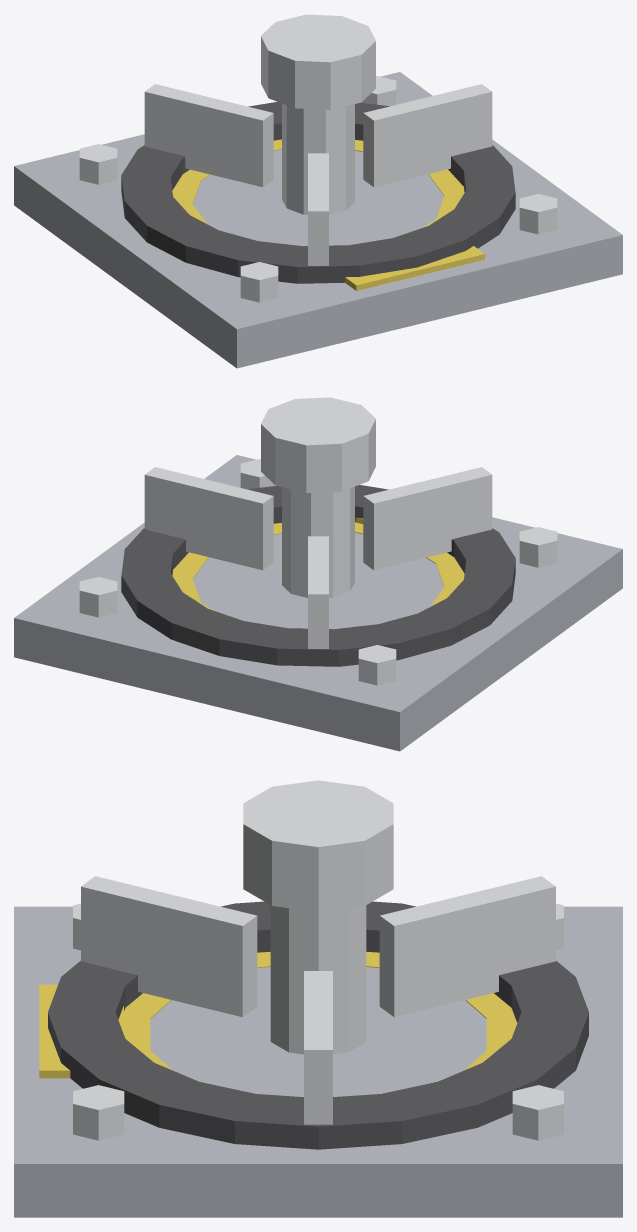
The model's file is orbital-station-and-docking-bays-grapple-fixture-86b57bc0__24558.glb.
3 views of the same model, one above another, from view 1: azimuth 30°, elevation 25°; view 2: azimuth 150°, elevation 25°; view 3: azimuth 270°, elevation 25° (orthographic). The views are drawn at different scales.
Visible parts, largest first — view 1: grapple-fixture; view 2: grapple-fixture; view 3: grapple-fixture.
Part boxes in pixels (box(x1,y1,x2,y2)): grapple-fixture: box(14, 14, 622, 368); grapple-fixture: box(14, 397, 622, 751); grapple-fixture: box(14, 780, 622, 1217).
Bounding box in the file's own units: 0.72 × 0.374 × 0.72.
